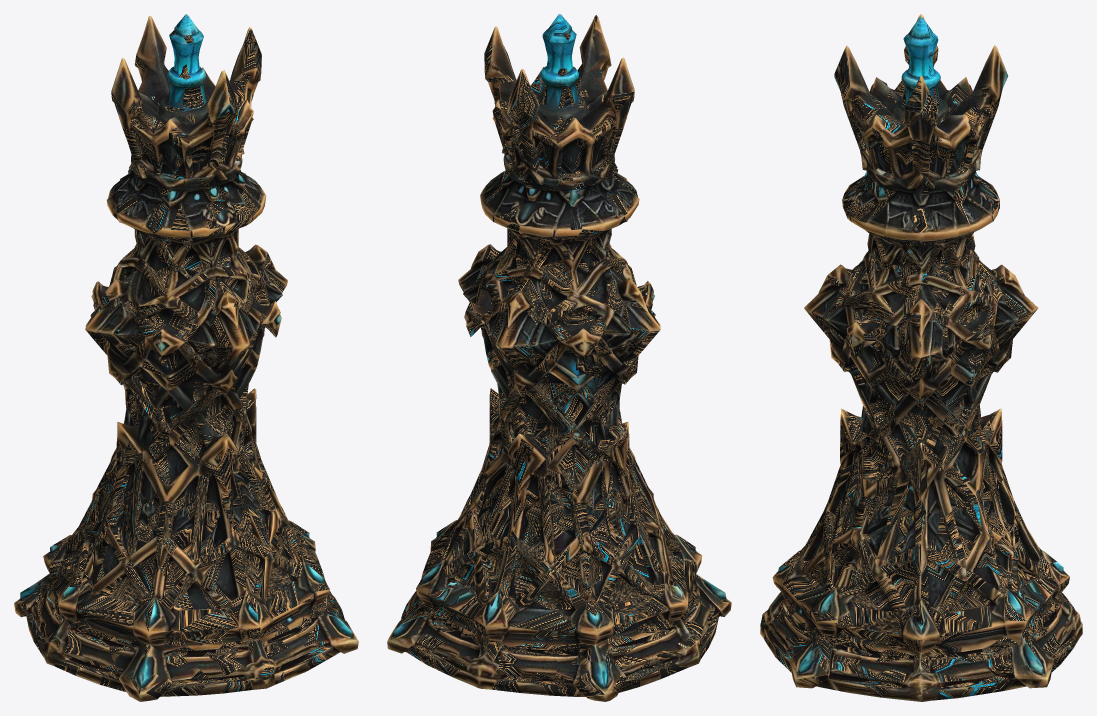
Rendered from Crystal_Citadel.glb.
The picture shows the model from 3 angles, left to right: view 1: azimuth 30°, elevation 25°; view 2: azimuth 150°, elevation 25°; view 3: azimuth 270°, elevation 25°; orthographic projection.
Visible parts, largest first — view 1: Crystal_Citadel; view 2: Crystal_Citadel; view 3: Crystal_Citadel.
Part boxes in pixels (x1,y1,x2,y2): Crystal_Citadel: (14,14,358,701); Crystal_Citadel: (387,14,731,701); Crystal_Citadel: (760,14,1082,701).
Bounding box in the file's own units: 0.899 × 1.9 × 0.8979.
Materials: 1 (1 with a texture image).
